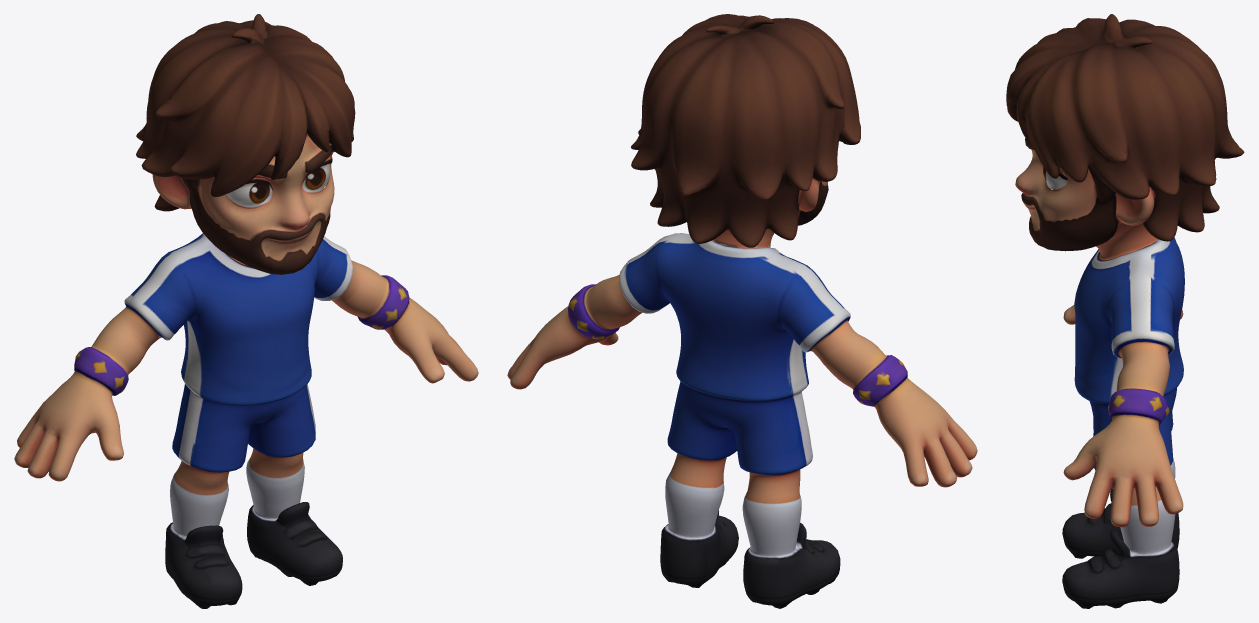
Rendered from zurdito_tripo.glb.
The picture shows the model from 3 angles, left to right: view 1: azimuth 30°, elevation 25°; view 2: azimuth 150°, elevation 25°; view 3: azimuth 270°, elevation 25°; orthographic projection.
Visible parts, largest first — view 1: zurdito; view 2: zurdito; view 3: zurdito.
Boxes of the visible parts, x1,y1,x2,y2 form: zurdito: [14, 14, 478, 608]; zurdito: [507, 14, 977, 608]; zurdito: [1006, 14, 1244, 608].
Bounding box in the file's own units: 1.41 × 1.7 × 0.6614.
1 material, 1 textured.
